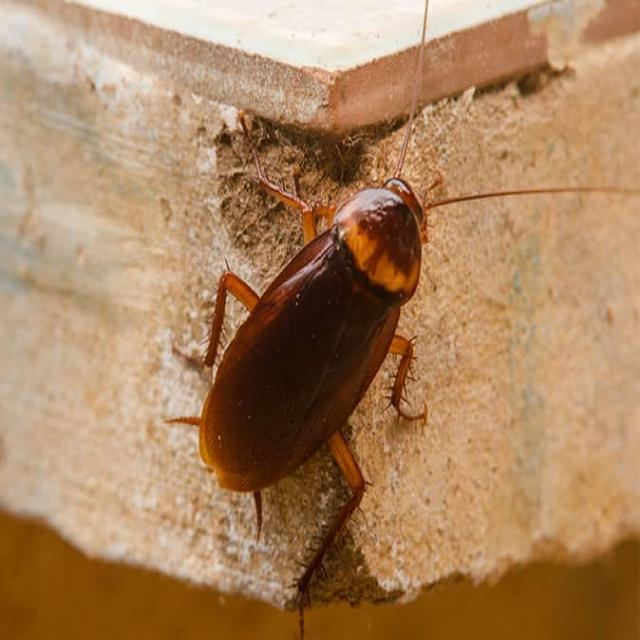Cockroach: (167, 105, 456, 593)
